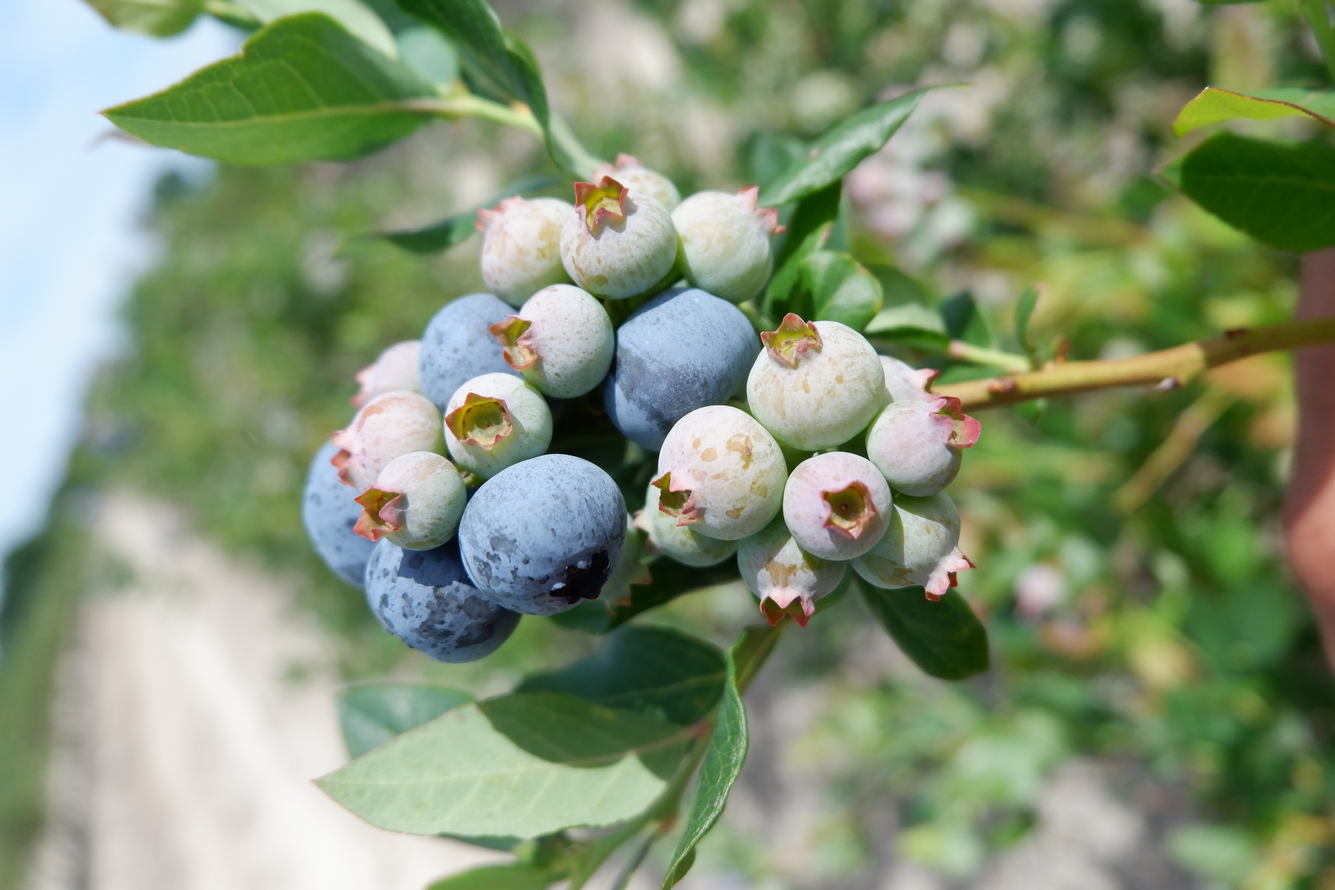Immature: (749, 318, 884, 447), (659, 408, 784, 537), (563, 180, 675, 295), (500, 286, 611, 395), (675, 185, 781, 299), (443, 375, 551, 480), (786, 455, 892, 559), (738, 522, 847, 621), (871, 396, 979, 494), (354, 455, 464, 548), (855, 493, 958, 588), (477, 200, 569, 304), (346, 394, 438, 484), (639, 483, 734, 565), (596, 156, 679, 211), (355, 343, 422, 404), (882, 357, 940, 408), (925, 549, 969, 598)
Mature: (460, 459, 622, 612), (606, 290, 756, 448), (367, 539, 516, 657), (417, 296, 513, 405), (303, 438, 370, 585)
